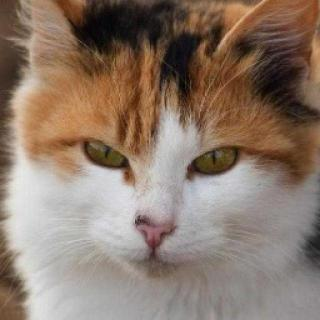cat: (8, 0, 320, 290)
nose: (130, 177, 186, 248)
